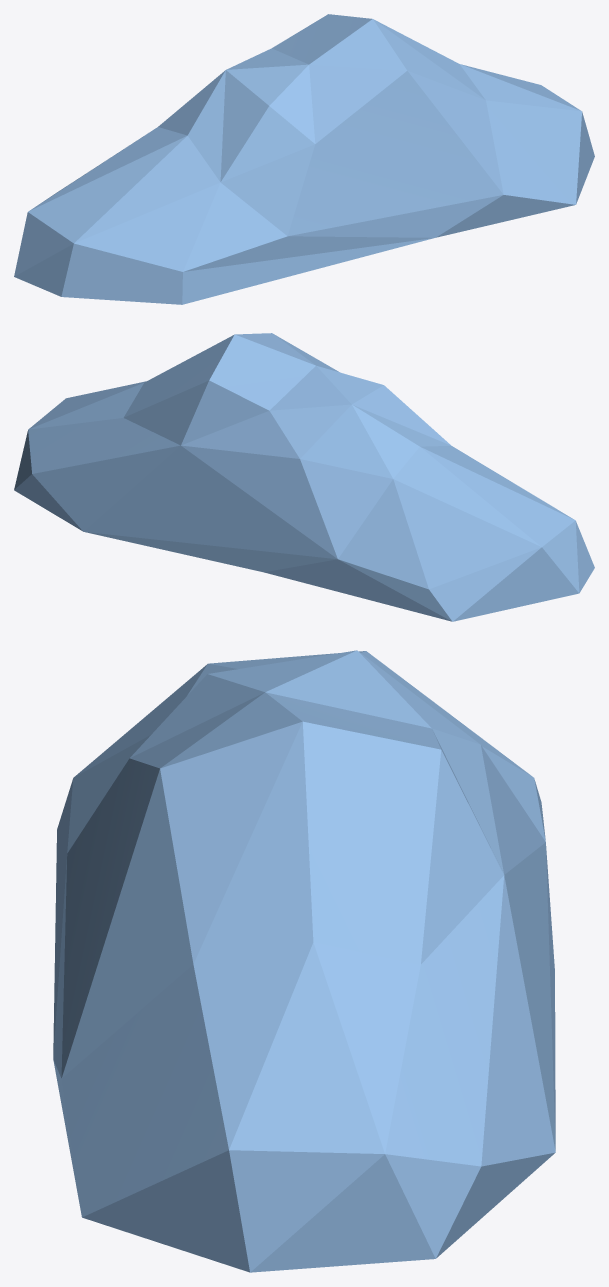
Rendered from cloud_5.fbx.
The picture shows the model from 3 angles, top to bottom: view 1: azimuth 30°, elevation 25°; view 2: azimuth 150°, elevation 25°; view 3: azimuth 270°, elevation 25°; orthographic projection. The views are drawn at different scales.
Visible parts, largest first — view 1: cloud_5; view 2: cloud_5; view 3: cloud_5.
Part boxes in pixels (box(x1,y1,x2,y2)): cloud_5: box(14, 14, 594, 304); cloud_5: box(14, 333, 594, 621); cloud_5: box(53, 650, 555, 1272).
Size of the model in its own units: 801 by 246 by 315.
